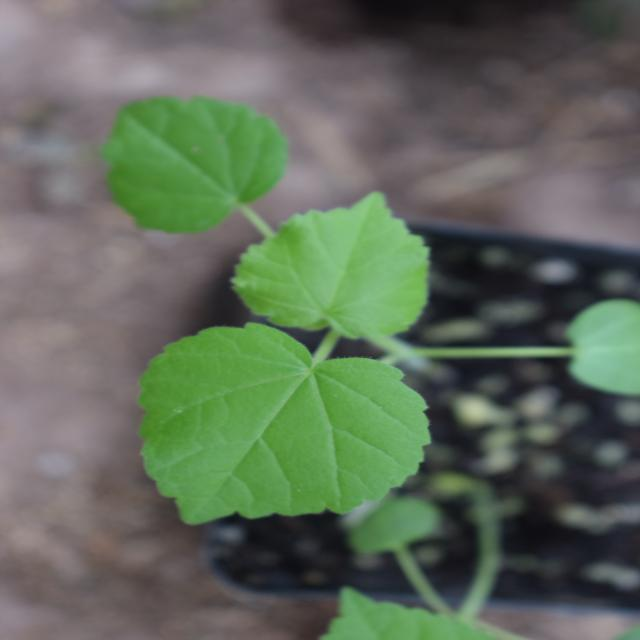abutilon theophrasti: (81, 193, 550, 562)
